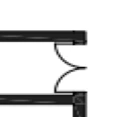double door: (50, 36, 99, 100)
